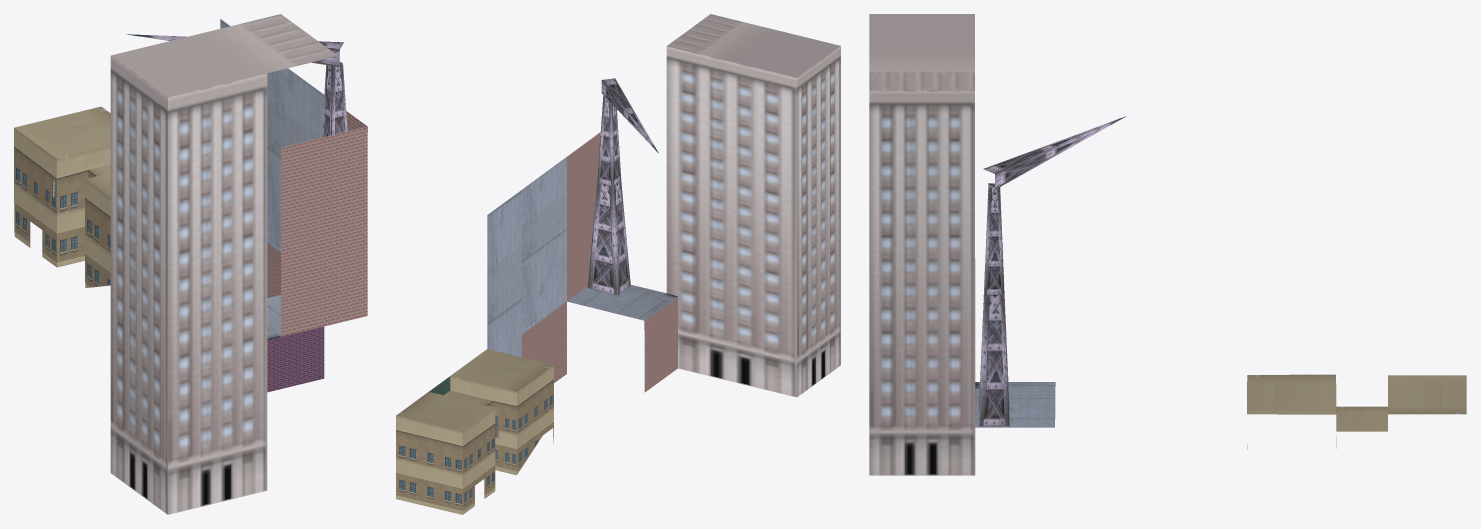
The model's file is builds02.glb.
3 views of the same model, side by side, from view 1: azimuth 30°, elevation 25°; view 2: azimuth 150°, elevation 25°; view 3: azimuth 270°, elevation 25° (orthographic). The views are drawn at different scales.
Parts seen in each view (by area): view 1: builds02; view 2: builds02; view 3: builds02.
Boxes of the visible parts, bbox=[...] form: builds02: bbox=[14, 14, 367, 514]; builds02: bbox=[396, 14, 840, 514]; builds02: bbox=[869, 14, 1466, 475].
Bounding box in the file's own units: 4333 × 6723 × 9449.
13 materials, 13 textured.
